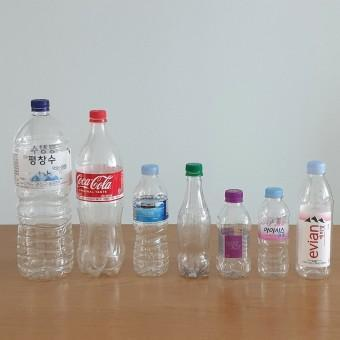bottle: (14, 99, 75, 277), (76, 110, 128, 277), (173, 156, 215, 284), (298, 159, 334, 276), (134, 163, 167, 276), (257, 184, 293, 280), (216, 189, 251, 278)
